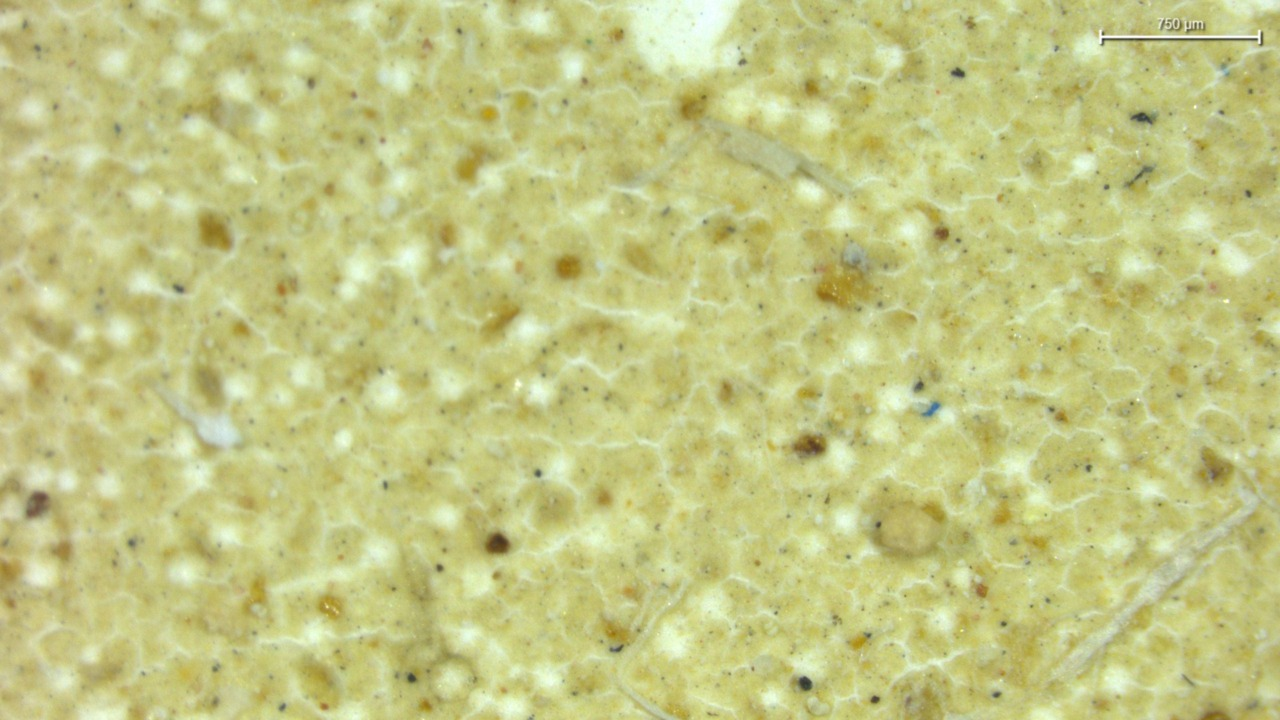microplastic_fragment: (874, 505, 941, 559)
